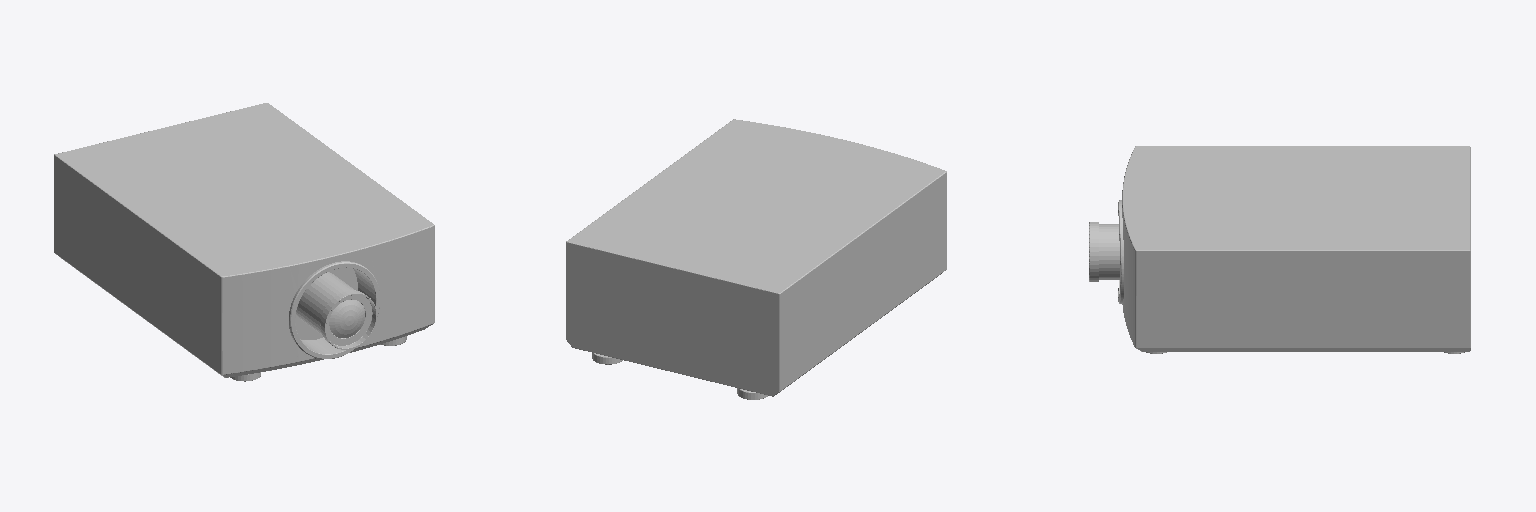
Rendered from 01_Large Venue_H8_General.obj.
3 views of the same model, side by side, from view 1: azimuth 30°, elevation 25°; view 2: azimuth 150°, elevation 25°; view 3: azimuth 270°, elevation 25° (orthographic).
Parts seen in each view (by area): view 1: 1, 2; view 2: 1; view 3: 1, 2.
Part boxes in pixels (bbox=[...]): 1: bbox=[54, 103, 434, 381]; 2: bbox=[296, 272, 376, 349]; 1: bbox=[566, 119, 946, 399]; 1: bbox=[1118, 146, 1470, 353]; 2: bbox=[1089, 222, 1119, 281].
Size of the model in its own units: 530 by 274 by 817.